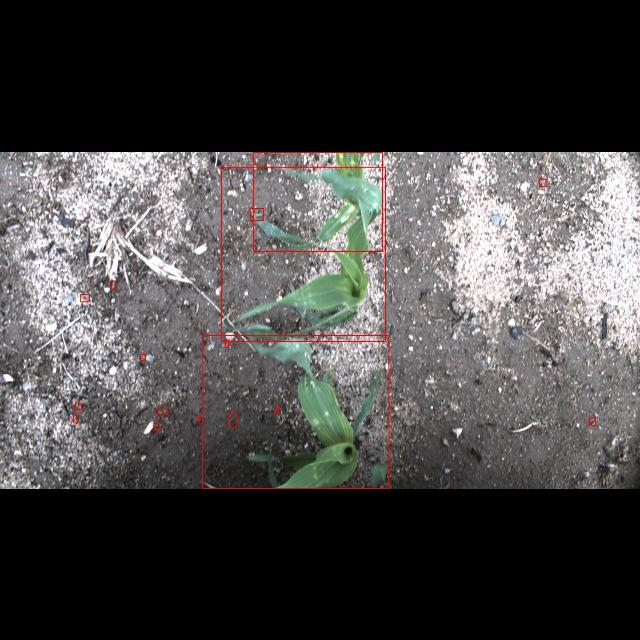crop: (203, 334, 389, 488), (221, 166, 385, 340), (254, 152, 382, 250)
weed: (250, 207, 264, 219), (228, 414, 236, 426), (80, 294, 90, 302), (156, 408, 168, 414), (74, 402, 82, 410), (588, 417, 596, 425), (110, 280, 116, 288), (540, 178, 546, 186), (153, 422, 159, 430), (140, 354, 146, 360), (74, 414, 78, 422), (275, 406, 279, 414), (226, 339, 228, 347), (197, 416, 200, 420)
